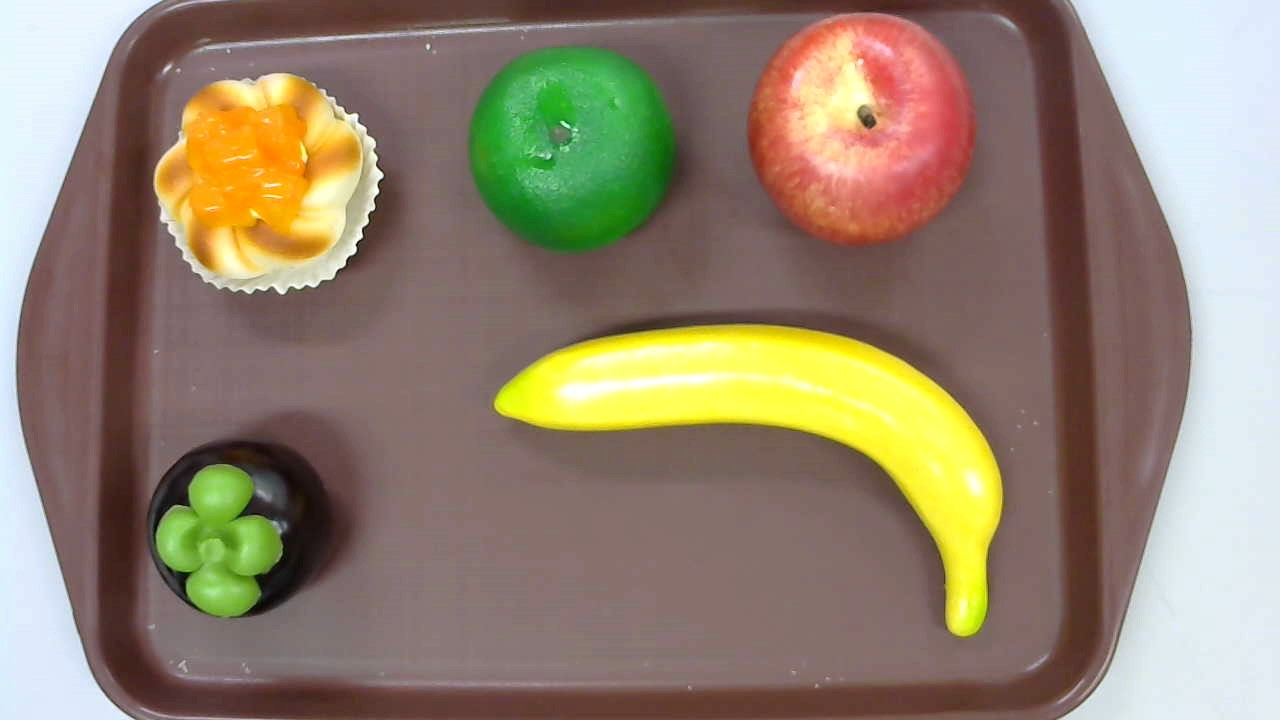banana: (492, 324, 1004, 639)
green orange: (466, 46, 676, 254)
mango tart: (153, 72, 385, 296)
mangosteen: (147, 437, 330, 619)
red apple: (747, 11, 976, 249)
